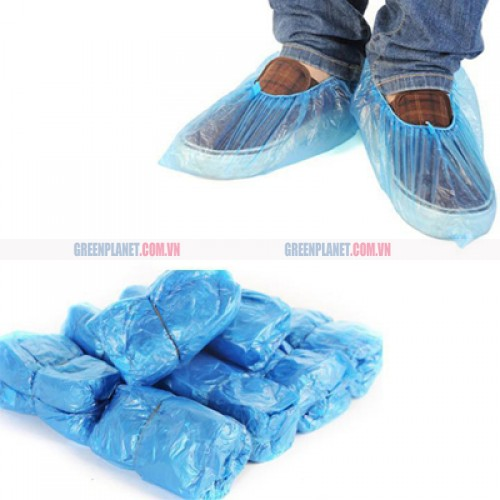plastic bag: (1, 268, 383, 500), (160, 48, 500, 244)
